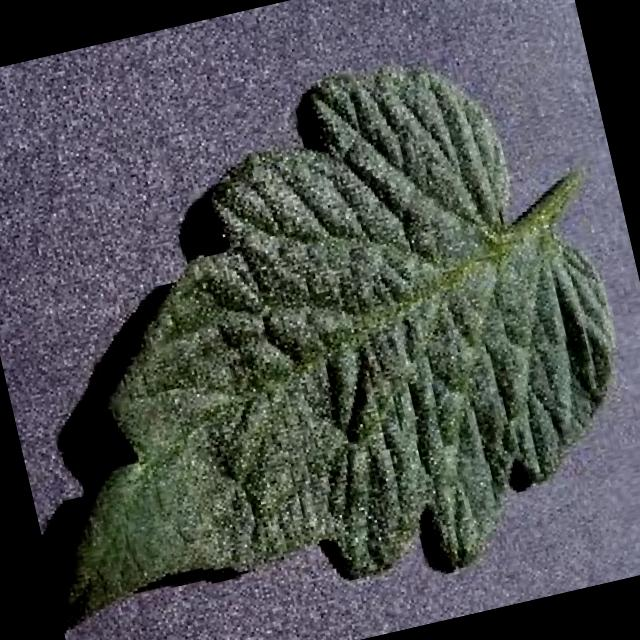healthy: (62, 62, 610, 636)
